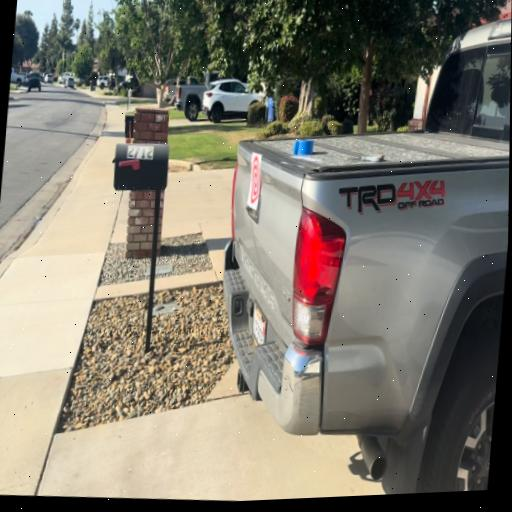bullseye: (246, 153, 262, 211)
